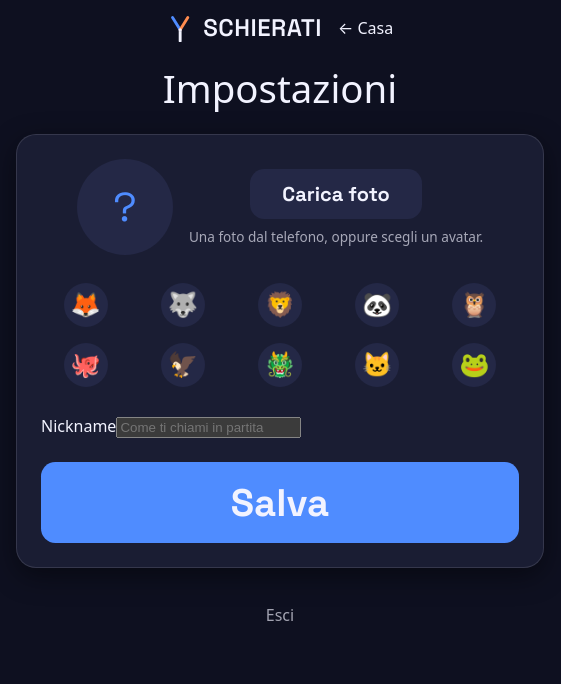
Test: Settings (/impostazioni) con il backend degradato › salvataggio con DB giù: messaggio chiaro e bottone riabilitato
Click the button "Salva" at (280,503), box [41,462,519,544]
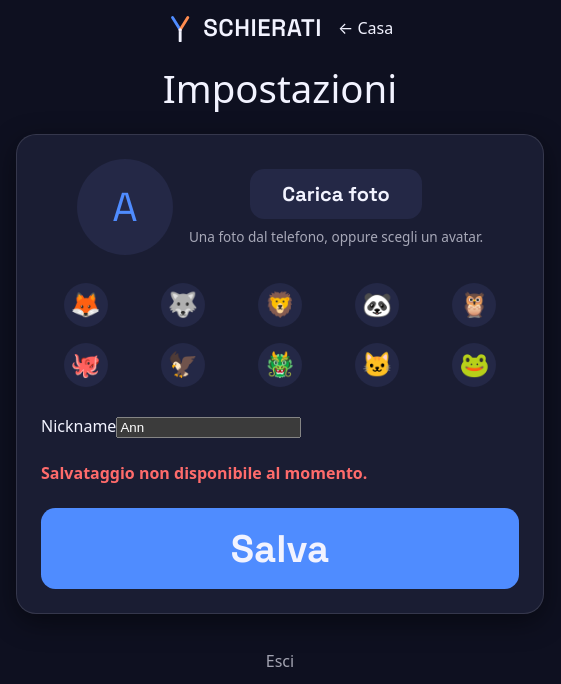
Expected: the button "Salva" is enabled, [41,508,519,590]
Expected: the text "Salvataggio non disponibile al momento." is shown, [41,462,367,484]
